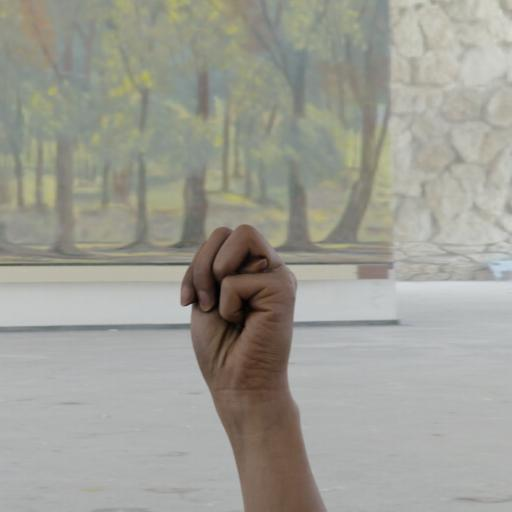M: (129, 177, 354, 461)
